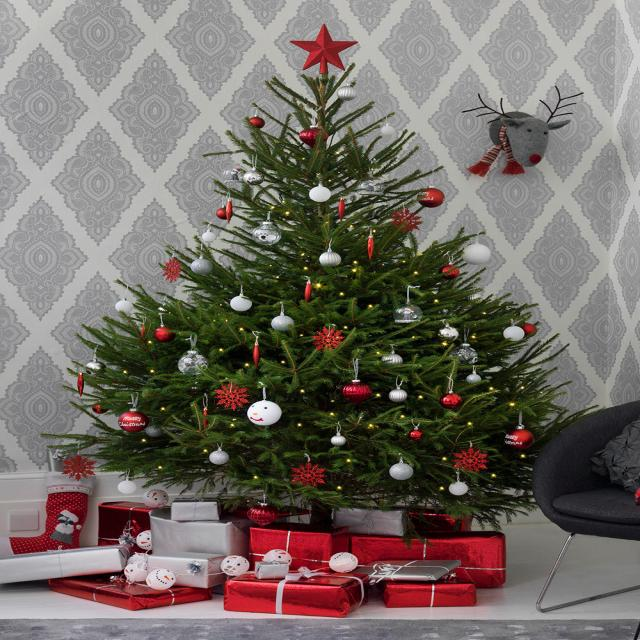Christmas-tree: (56, 37, 502, 512)
